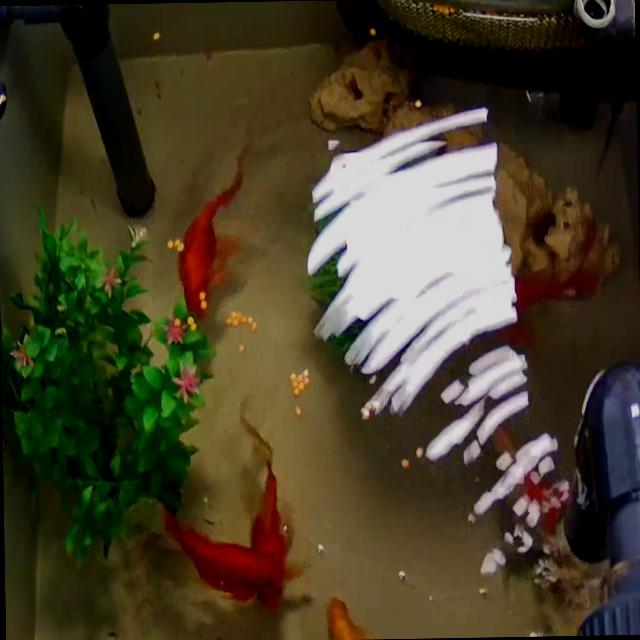fish: (126, 484, 306, 601), (238, 403, 322, 613), (175, 140, 254, 324), (491, 418, 566, 521), (510, 240, 609, 318), (329, 598, 418, 640)
